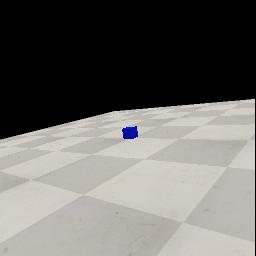box: (122, 126, 138, 139)
